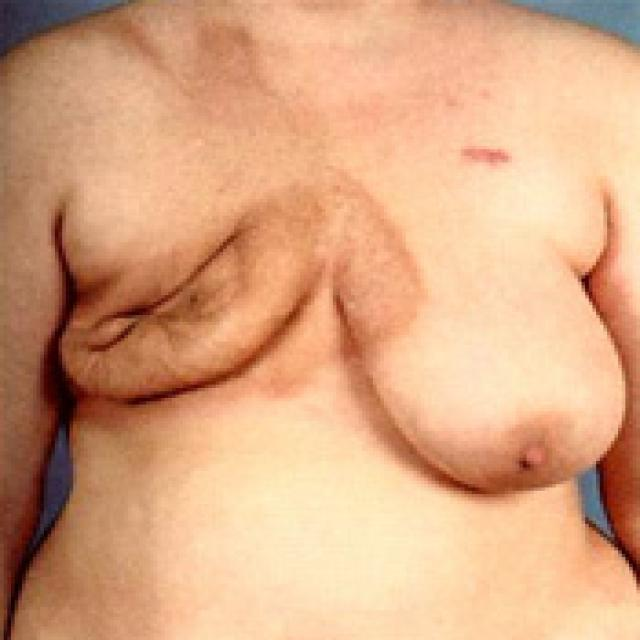Seno herido: (50, 184, 329, 430)
Seno ileso: (332, 184, 634, 520)
